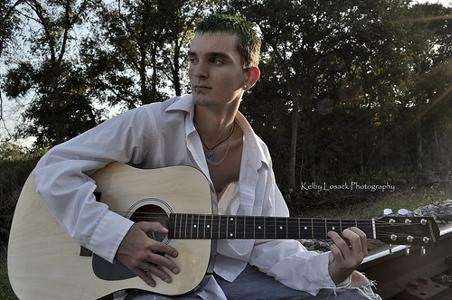person: (33, 14, 384, 300)
